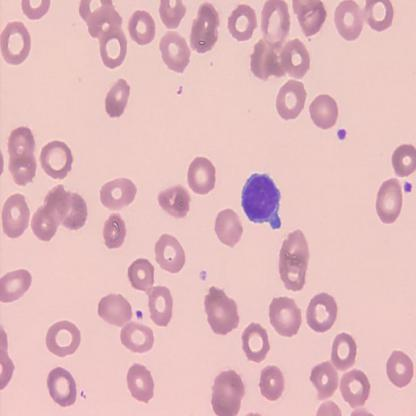Lymphocyte: (240, 172, 283, 231)
